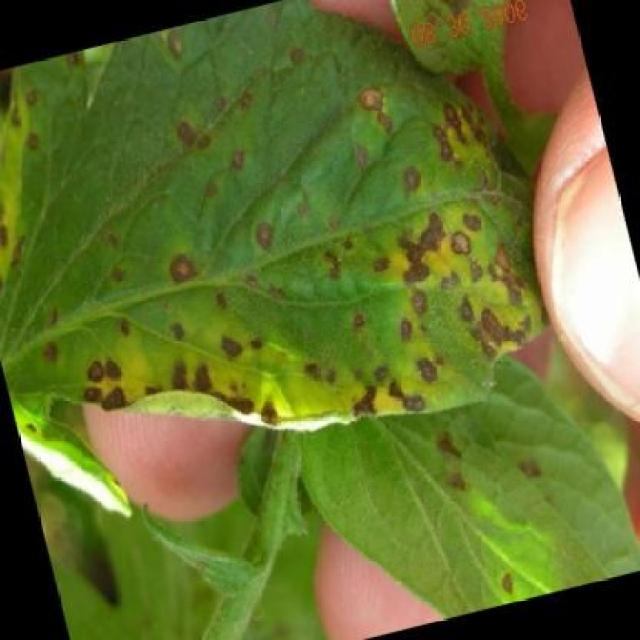Septoria leaf spot: (0, 0, 589, 545)
